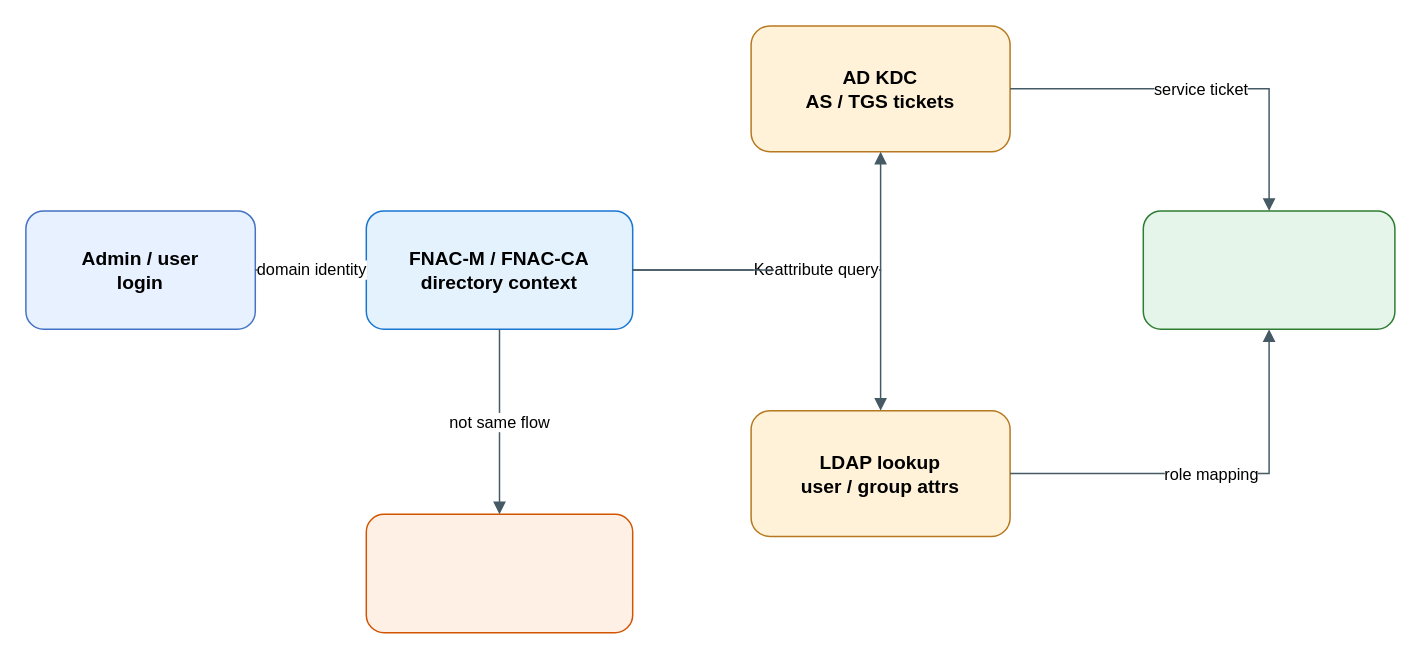
Some shapes in this 1421 by 659 pixel diagram are drawn without their labels. Here are the shapes that lost their labels. From the top down, the centre of each, then its label:
point 1268,269: Kerberos ticket validated / role
point 499,573: Winbind / MSCHAPv2 separate RADIUS path
